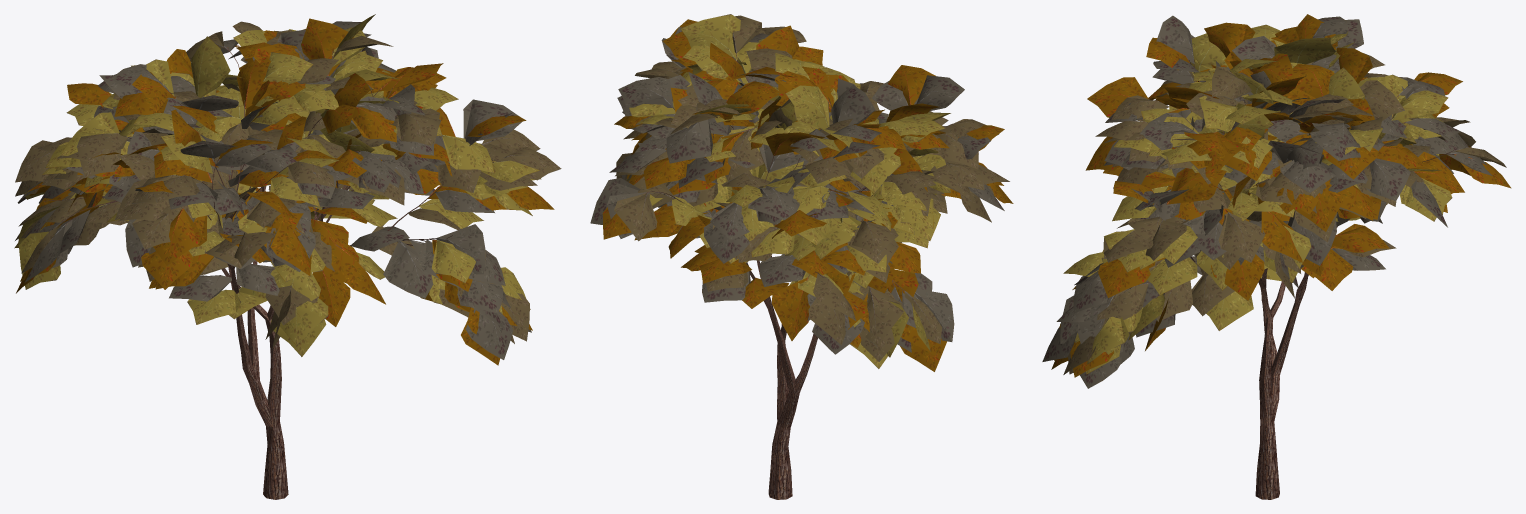
File: static.fbx
3 views of the same model, side by side, from view 1: azimuth 30°, elevation 25°; view 2: azimuth 150°, elevation 25°; view 3: azimuth 270°, elevation 25° (orthographic). The views are drawn at different scales.
Visible parts, largest first — view 1: polySurface1SG1, Trank_bark; view 2: polySurface1SG1, Trank_bark; view 3: polySurface1SG1, Trank_bark.
Part boxes in pixels (x1=…): polySurface1SG1: x1=14, y1=14, x2=561, y2=365; Trank_bark: x1=43, y1=47, x2=493, y2=499; polySurface1SG1: x1=590, y1=14, x2=1013, y2=371; Trank_bark: x1=644, y1=53, x2=910, y2=499; polySurface1SG1: x1=1042, y1=14, x2=1511, y2=388; Trank_bark: x1=1148, y1=60, x2=1453, y2=499.
Bounding box in the file's own units: 602 × 633 × 588.
Materials: 2 (2 with a texture image).
